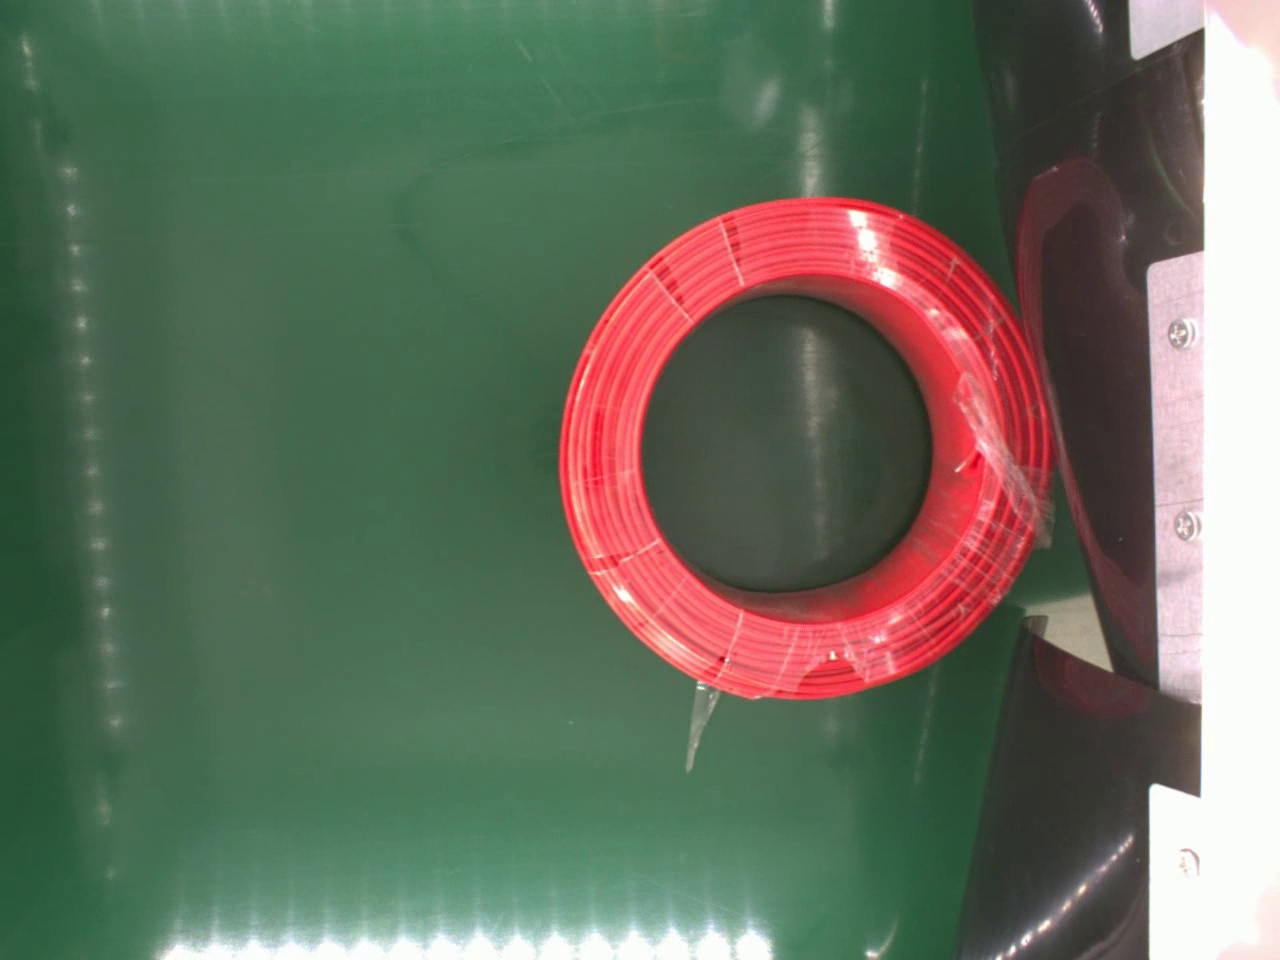red: (556, 195, 1056, 704)
